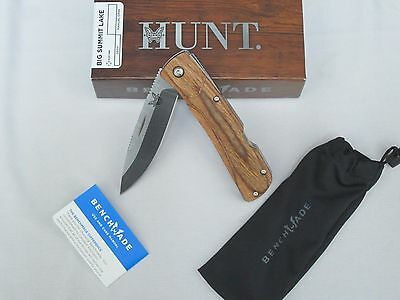knief: (115, 49, 272, 197)
